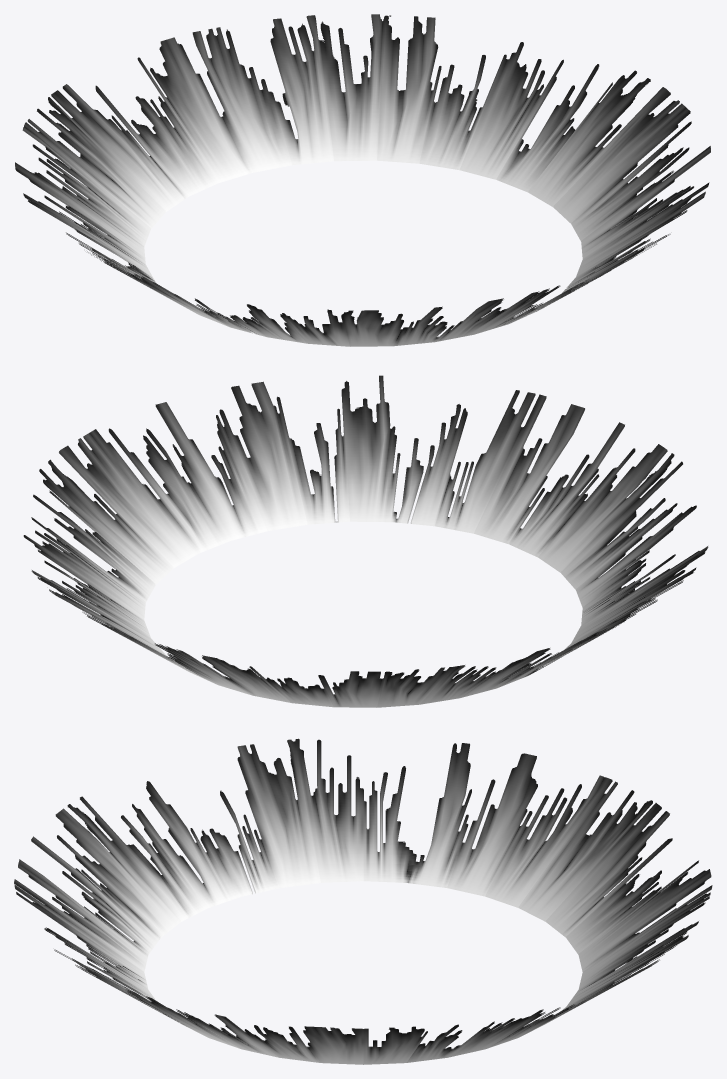
Rendered from CharaEffectCircle(Widthver).obj.
3 views of the same model, one above another, from view 1: azimuth 30°, elevation 25°; view 2: azimuth 150°, elevation 25°; view 3: azimuth 270°, elevation 25° (orthographic).
Parts seen in each view (by area): view 1: 円; view 2: 円; view 3: 円.
Boxes of the visible parts, <box> form: 円: <box>15,14,710,346</box>; 円: <box>23,375,708,707</box>; 円: <box>14,738,712,1064</box>.
Bounding box in the file's own units: 14.3 × 2.06 × 14.43.
Materials: 1 (1 with a texture image).
